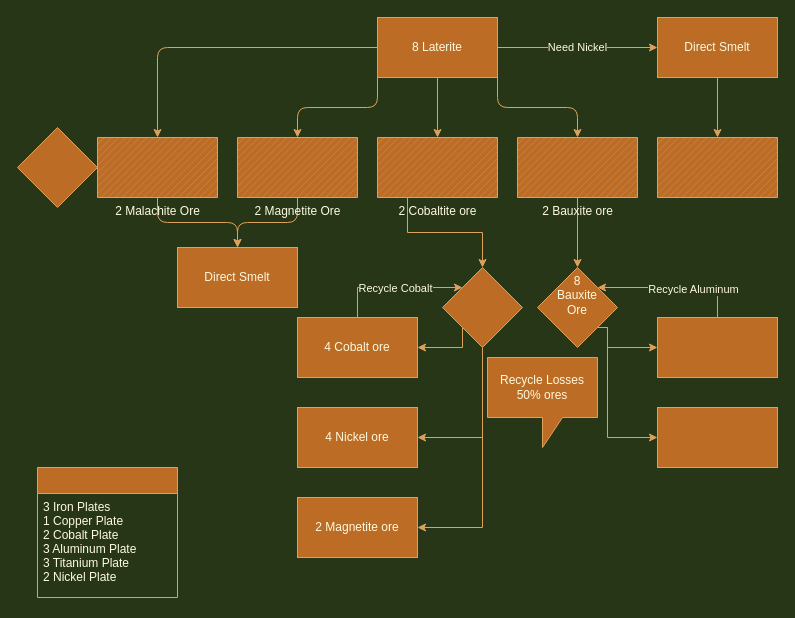
Some shapes in this 795 by 618 pixel diagram are drawn without their labels. The box of each missing label's shape, as (x1, y1, x2, y2) in pixels:
25% of all ores: (16, 126, 98, 208)
4 Nickel Plate: (656, 136, 778, 198)
6 Aluminum Ore: (656, 316, 778, 378)
6 Titanium Ore: (656, 406, 778, 468)
8 Cobaltite ore: (442, 266, 522, 348)
Non Recyled Results: (36, 466, 178, 598)
